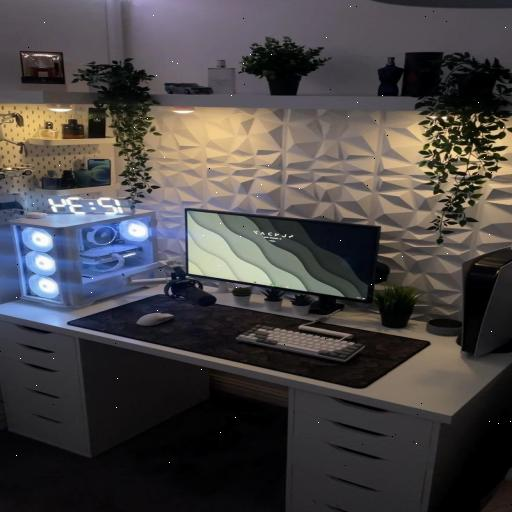computer case: (13, 214, 157, 305)
monitor: (187, 209, 380, 302)
